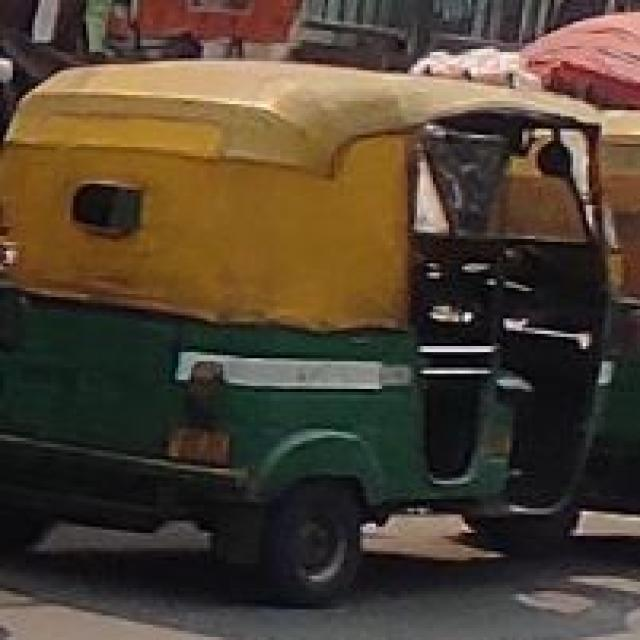autorickshaw: (3, 52, 631, 609)
